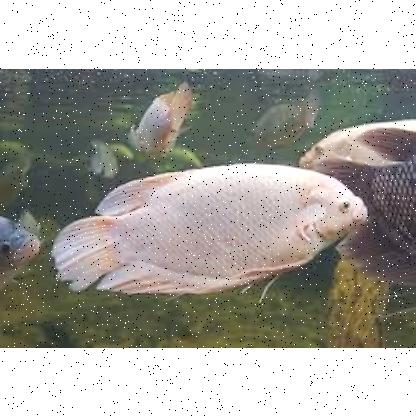gurame: (51, 165, 375, 292)
